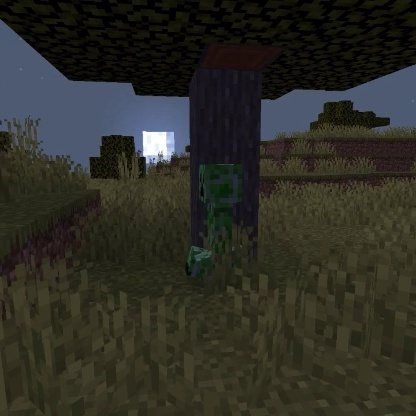creeper: (182, 161, 249, 281)
